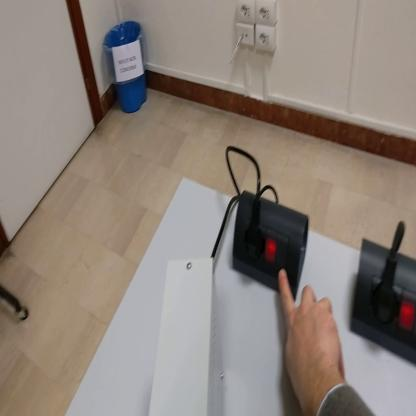hand: (278, 269, 345, 401)
power supply: (150, 261, 227, 415)
socket: (230, 192, 312, 304), (349, 239, 415, 366)
